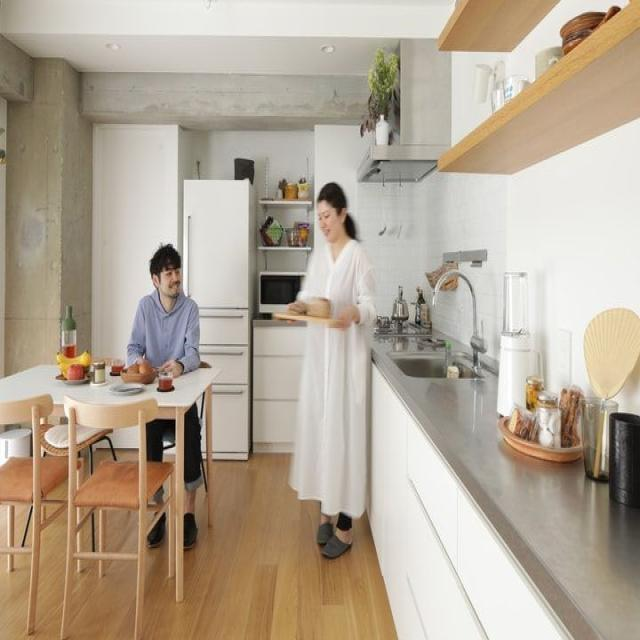obstacle: (0, 358, 221, 600), (181, 178, 256, 462)
person: (285, 181, 377, 559), (125, 242, 203, 550)
